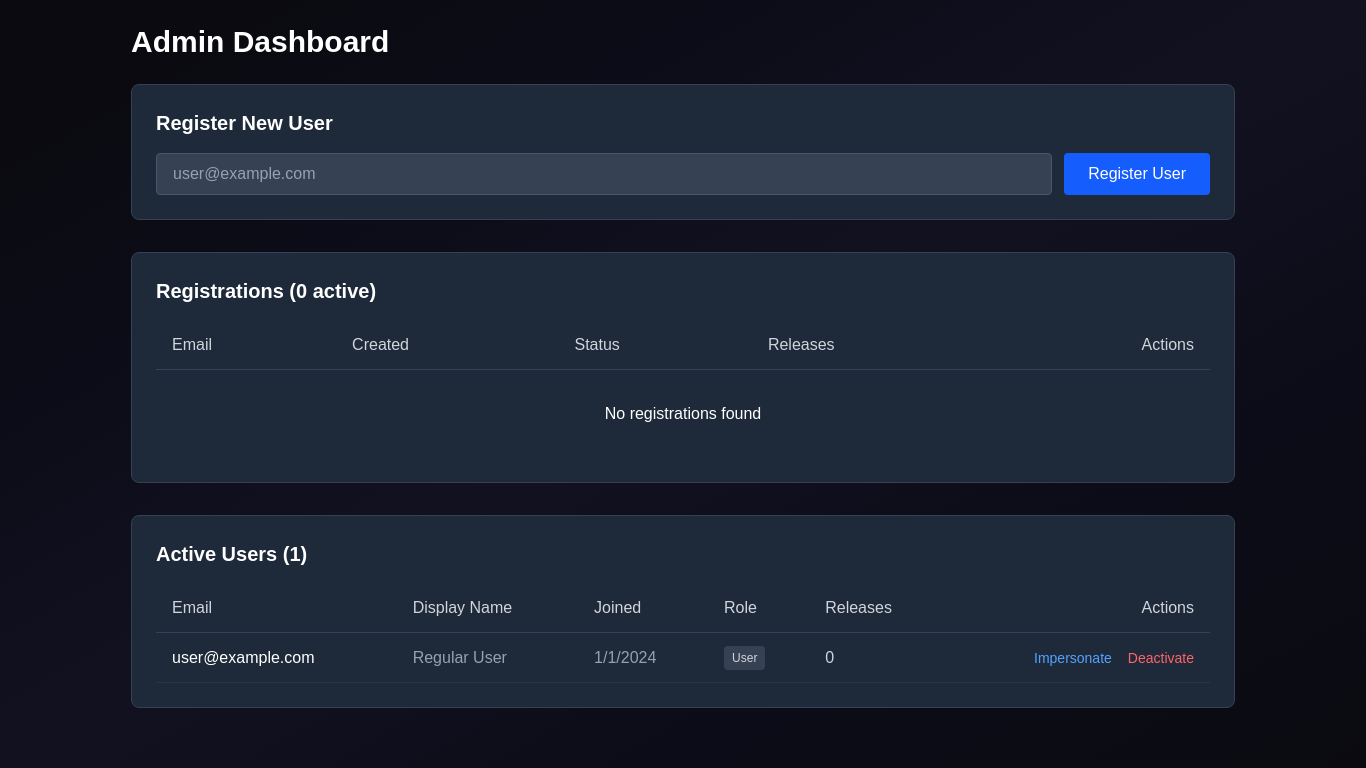
Test: AdminDashboard — impersonation › clickingImpersonate_onApiError_displaysErrorMessage
Click the button "Impersonate" at (1073, 658), box [1034, 648, 1112, 668]
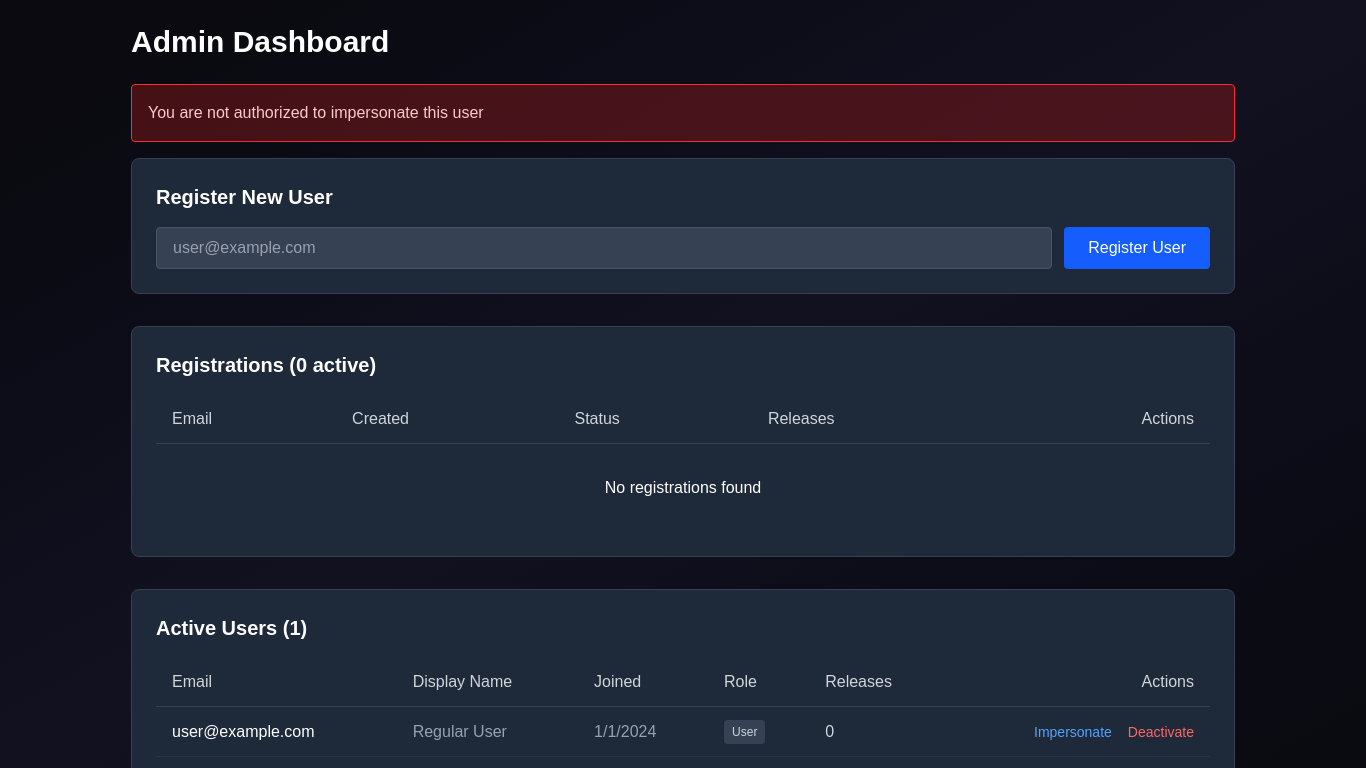
Expected: the text "You are not authorized to impersonate this user" is shown, [131, 84, 1235, 142]
